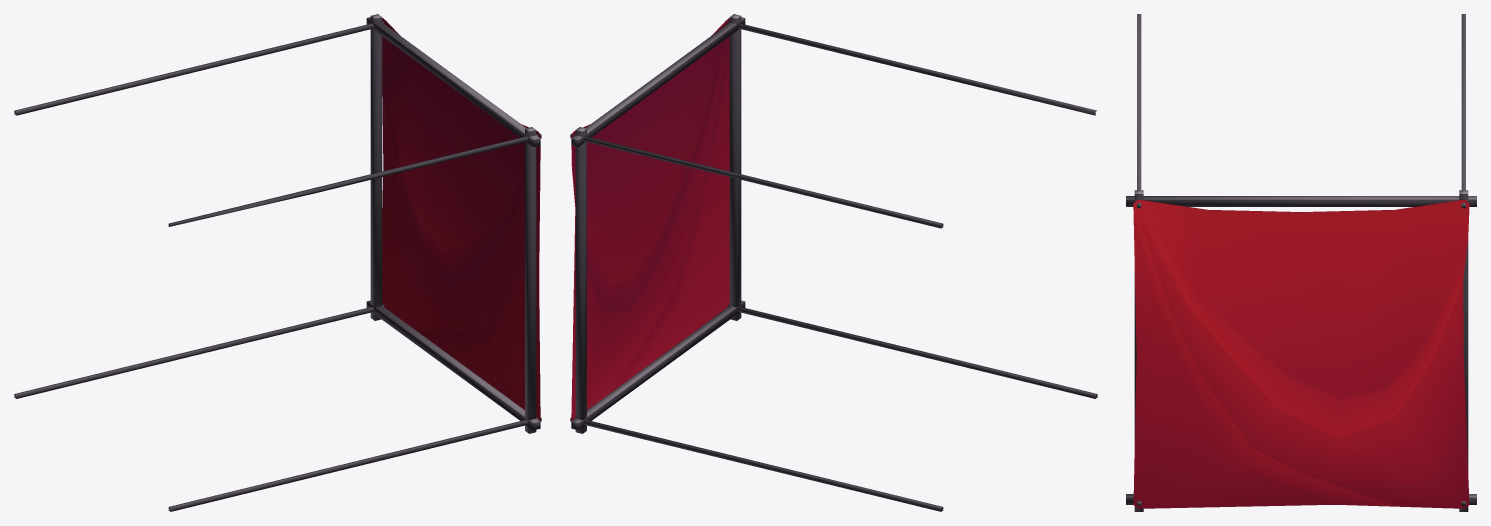
Rendered from Safety_Net_3B.fbx.
3 renders of one model, left to right at view 1: azimuth 30°, elevation 25°; view 2: azimuth 150°, elevation 25°; view 3: azimuth 270°, elevation 25°, orthographic. The views are drawn at different scales.
Visible parts, largest first — view 1: Safety_Net_3B; view 2: Safety_Net_3B; view 3: Safety_Net_3B.
Part boxes in pixels (x1,y1,x2,y2): Safety_Net_3B: (14,14,541,511); Safety_Net_3B: (570,14,1097,511); Safety_Net_3B: (1126,14,1476,511).
Bounding box in the file's own units: 516 × 400 × 400.
